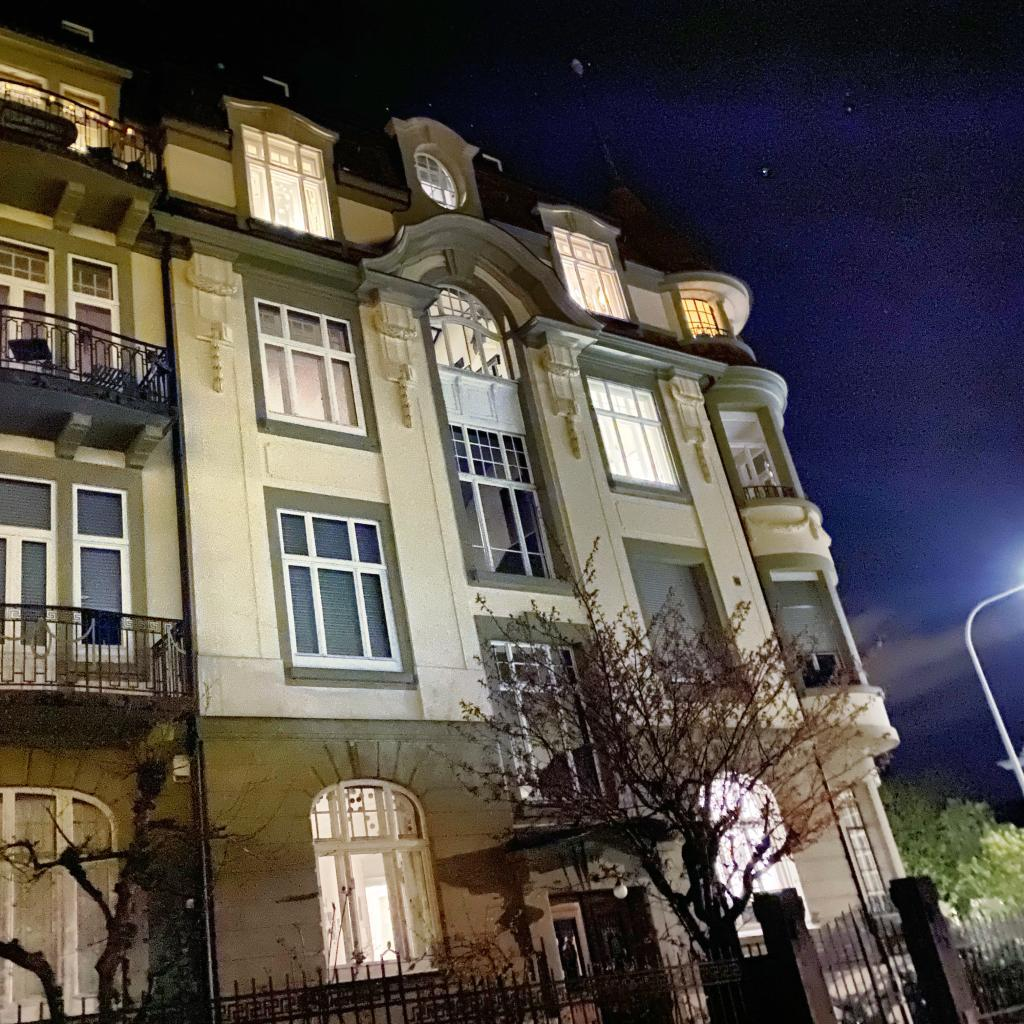balcony-fence: (0, 303, 180, 409), (0, 601, 191, 700), (0, 76, 160, 182), (743, 485, 798, 499)
facade: (0, 1, 931, 1024)
fence: (0, 906, 1024, 1024)
traffic-infrastructure: (963, 578, 1024, 799)
vegetation: (250, 503, 1024, 1024), (0, 671, 341, 1018)
window: (0, 782, 124, 1024), (0, 473, 138, 690), (309, 776, 449, 983), (275, 507, 404, 671), (696, 768, 812, 939), (486, 641, 607, 803), (0, 237, 123, 390), (449, 422, 557, 578), (254, 296, 368, 439), (627, 551, 739, 686), (584, 374, 684, 492), (243, 124, 334, 239), (0, 64, 105, 159), (427, 285, 511, 380), (550, 225, 632, 322), (415, 151, 458, 209), (679, 298, 724, 337)
